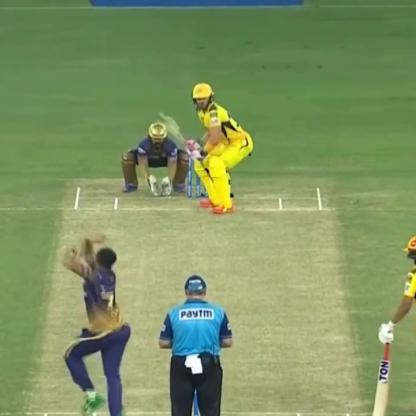bat: (161, 106, 200, 173)
pitch: (27, 175, 376, 415)
